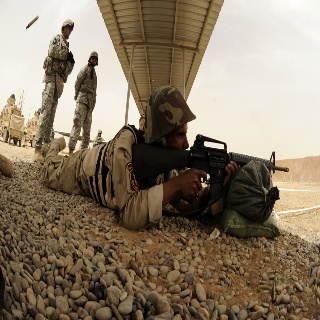rifle: (131, 132, 290, 203)
